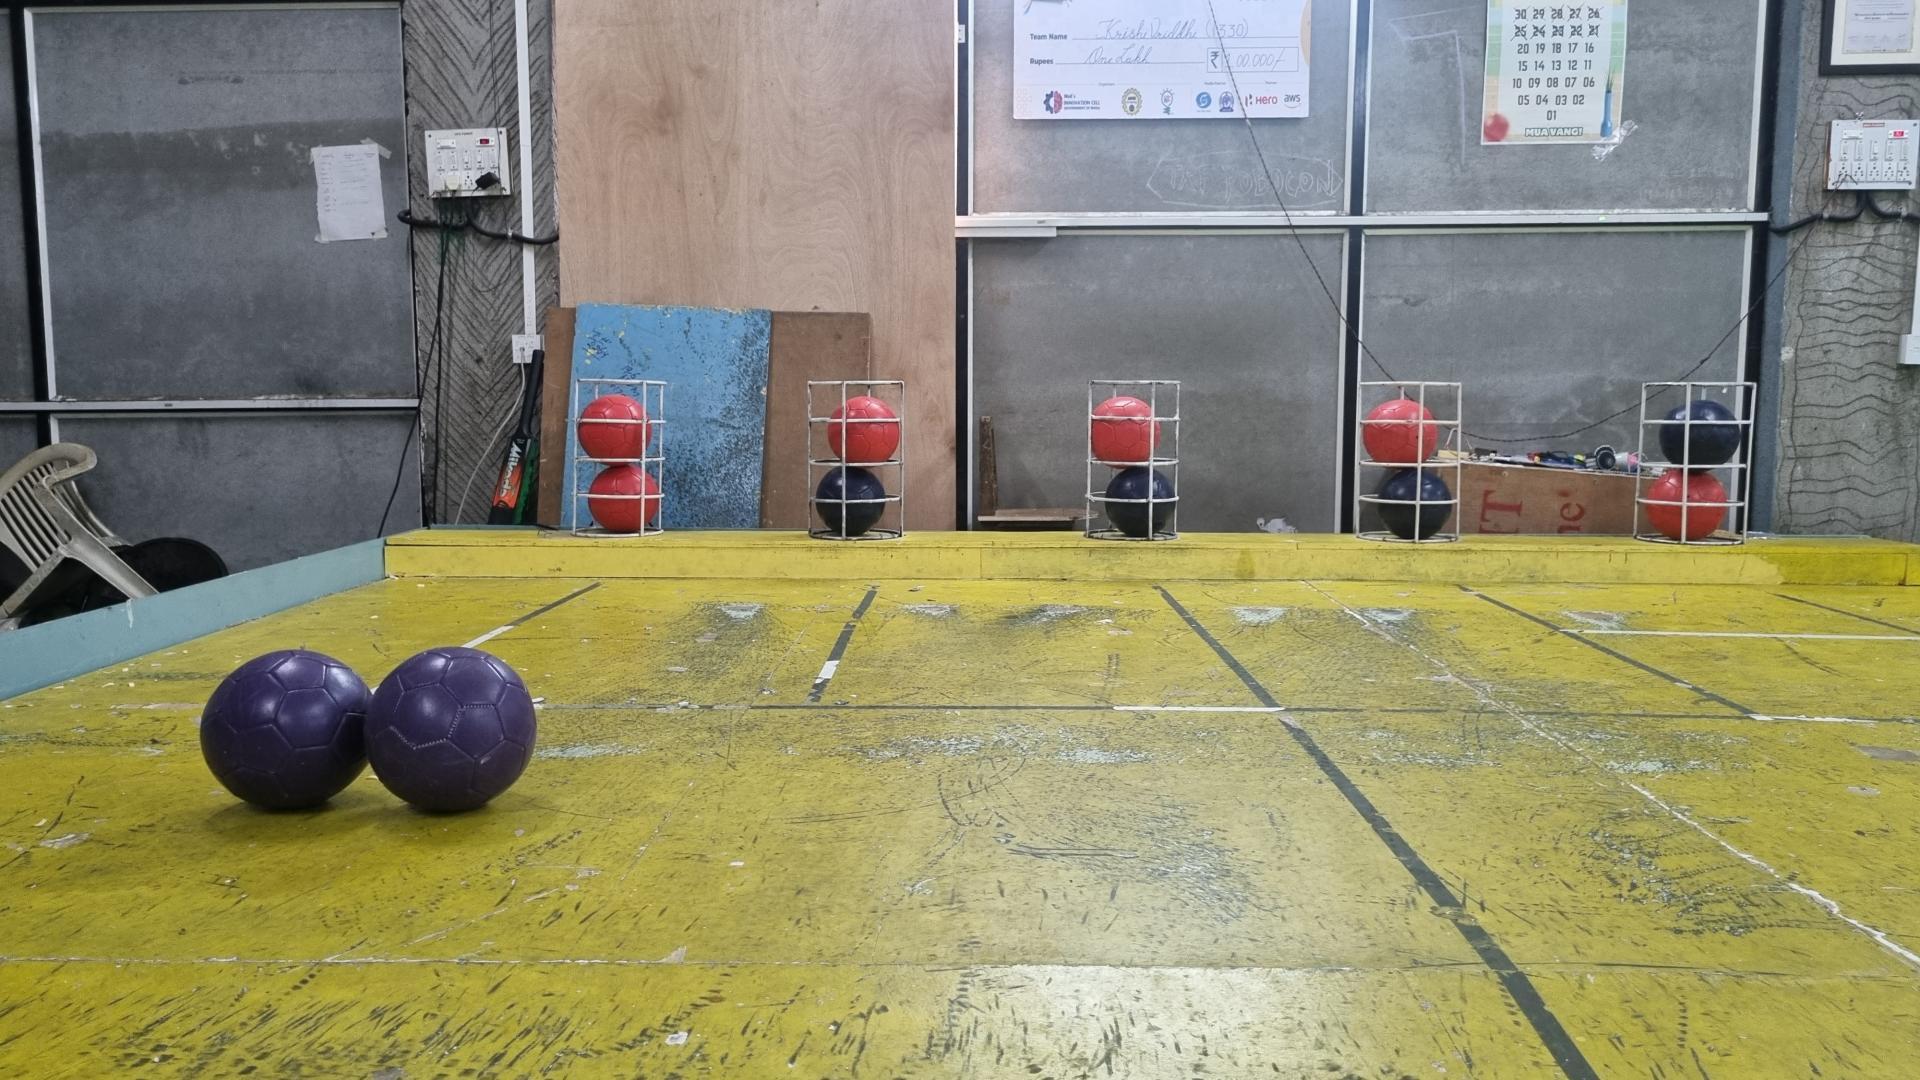dhoka: (1106, 464, 1178, 539), (1377, 468, 1452, 539), (1658, 401, 1741, 464), (818, 468, 885, 535)
laale: (1646, 468, 1729, 539), (828, 393, 899, 464), (1092, 393, 1163, 464), (578, 393, 653, 460), (1361, 397, 1436, 464), (588, 464, 659, 531)
